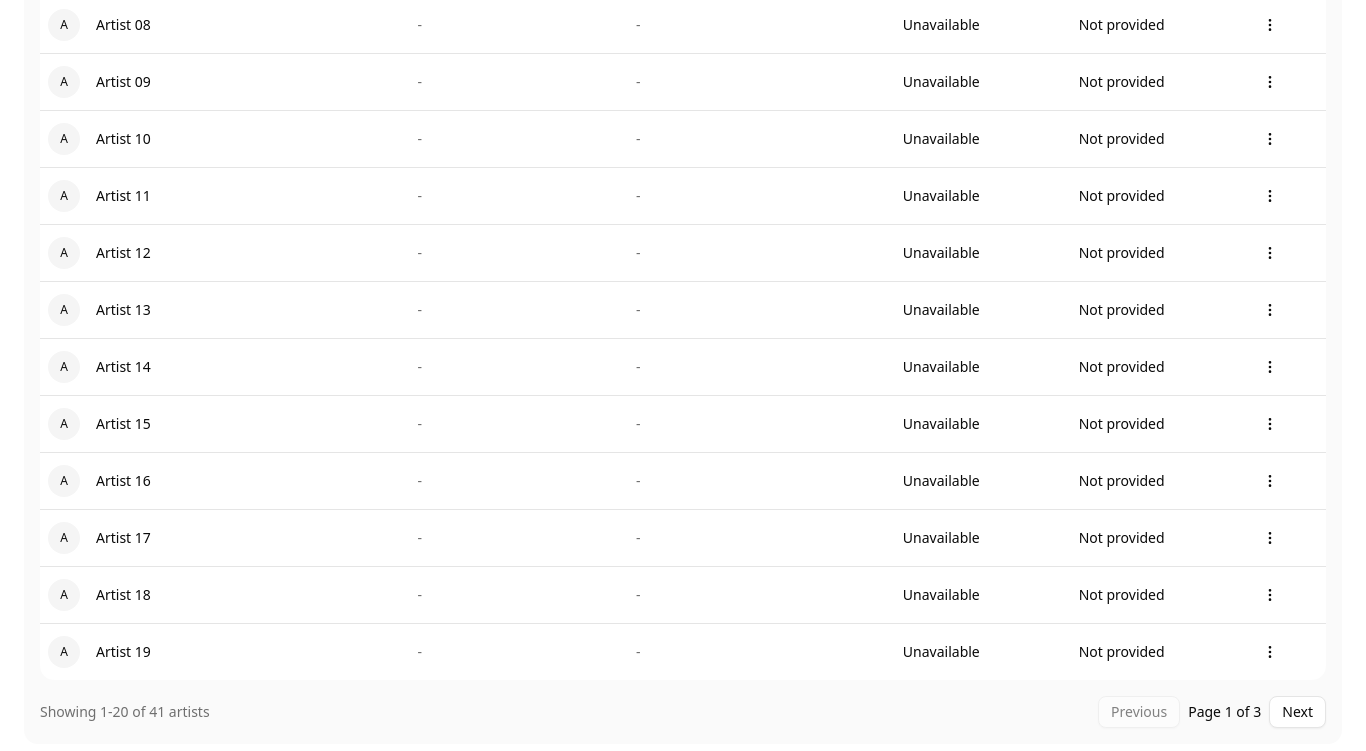
Test: search resets the current page and reports filtered ranges
(page scrolled)
Click the button "Next".
click(1298, 712)  # box x1=1269 y1=696 x2=1326 y2=728
(page scrolled)
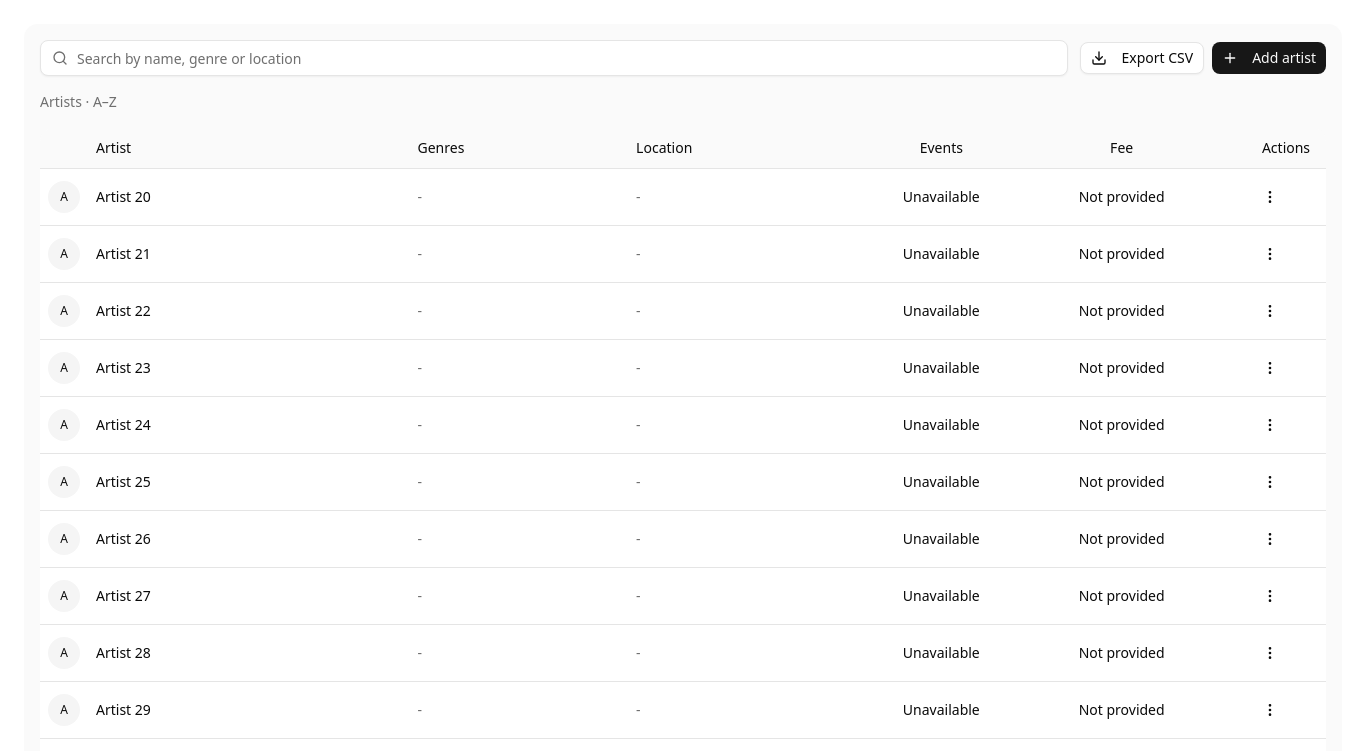
Type "Artist 40" into the search field with placeholder "Search by name, genre or location".
click(554, 58); type("Artist 40")  # box x1=40 y1=40 x2=1068 y2=76
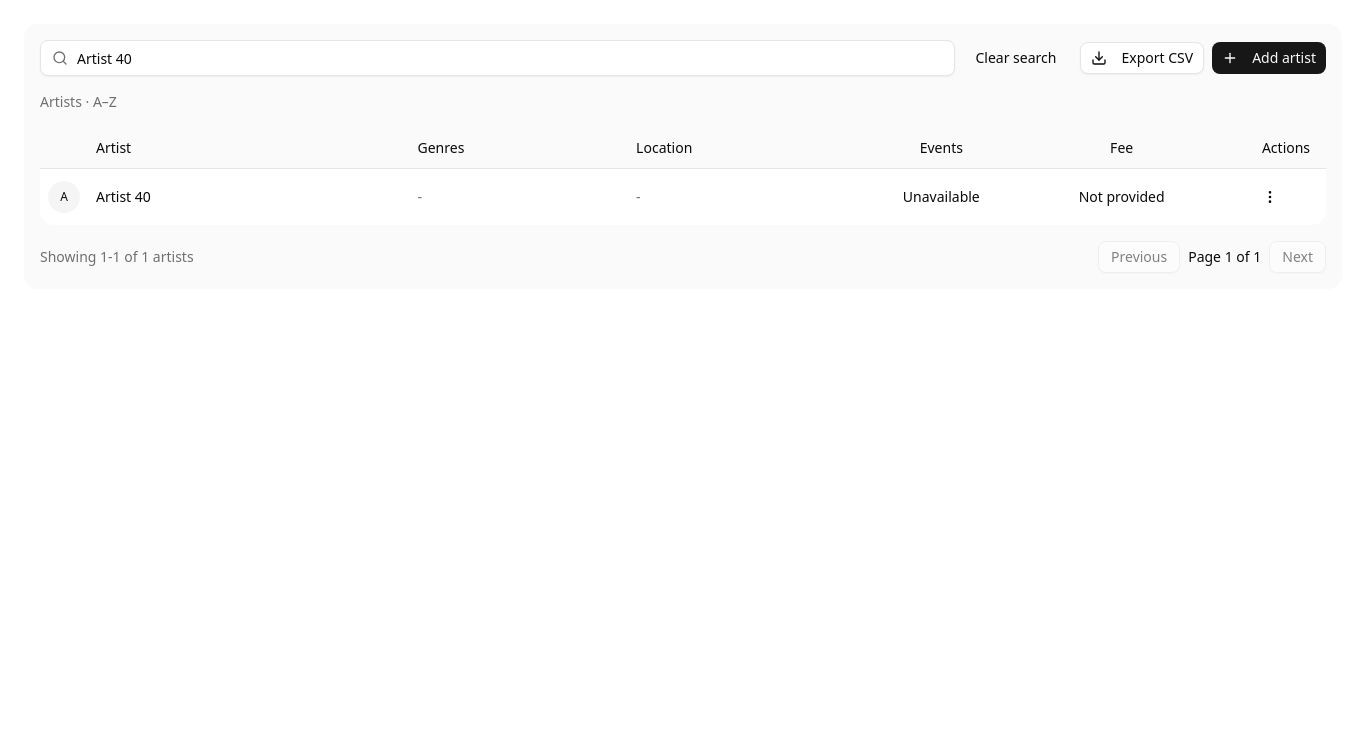
Now the text "Artist 40" is shown, box x1=96 y1=186 x2=151 y2=206
Now the text "Showing 1-1 of 1 artists" is shown, box x1=40 y1=246 x2=194 y2=266
